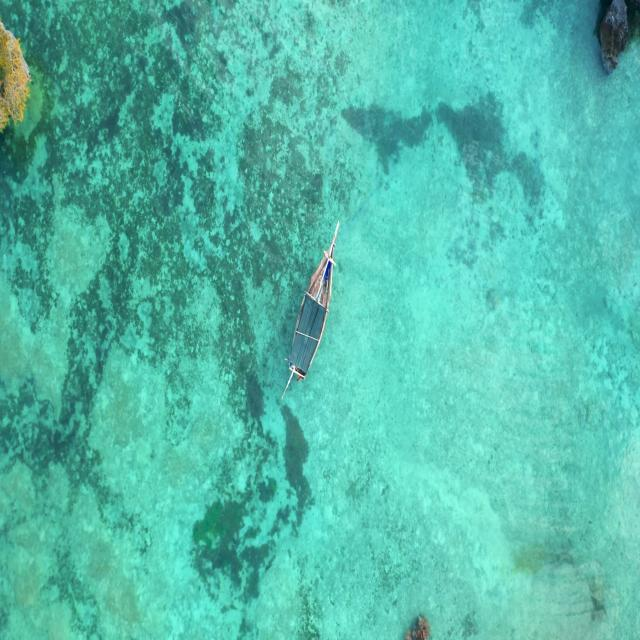ship: (284, 211, 344, 392)
